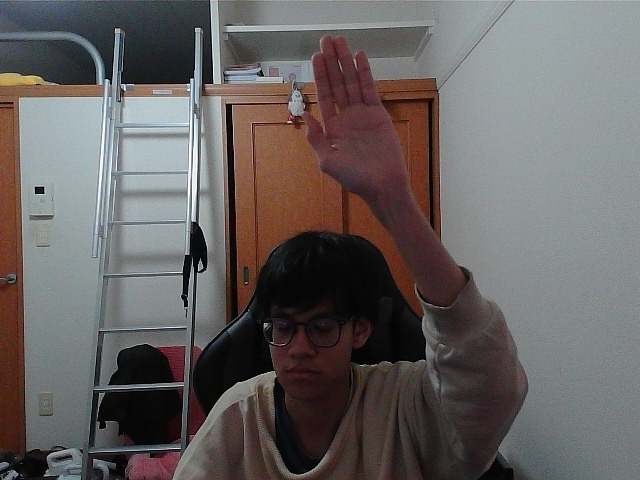open_palm: (309, 42, 378, 176)
